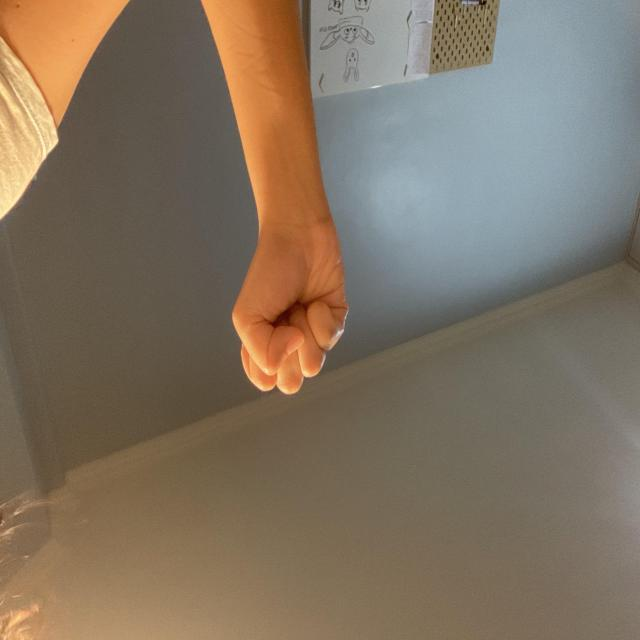S: (291, 245, 408, 418)
